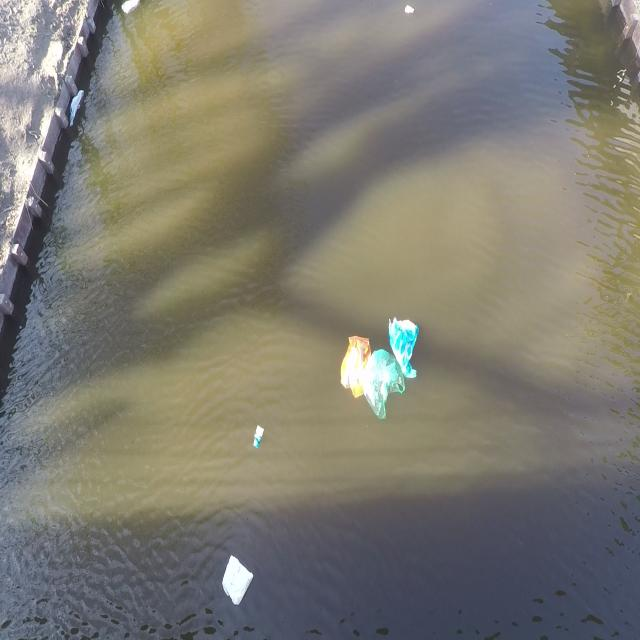Autre plastique: (220, 553, 253, 615), (252, 426, 266, 456)
Sac plastique: (363, 346, 408, 426), (387, 312, 424, 386)
